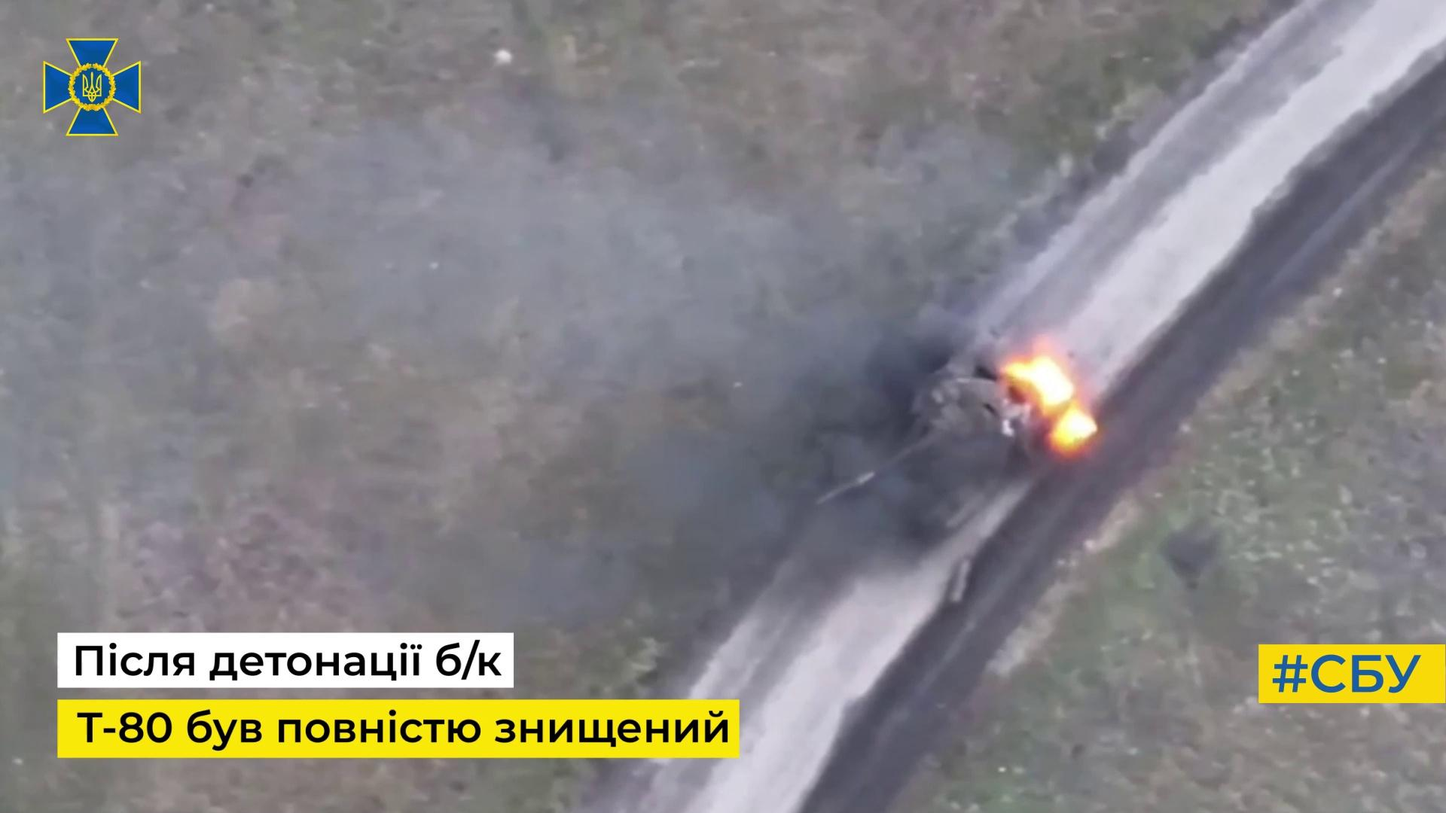vehicle: (804, 335, 1065, 539)
